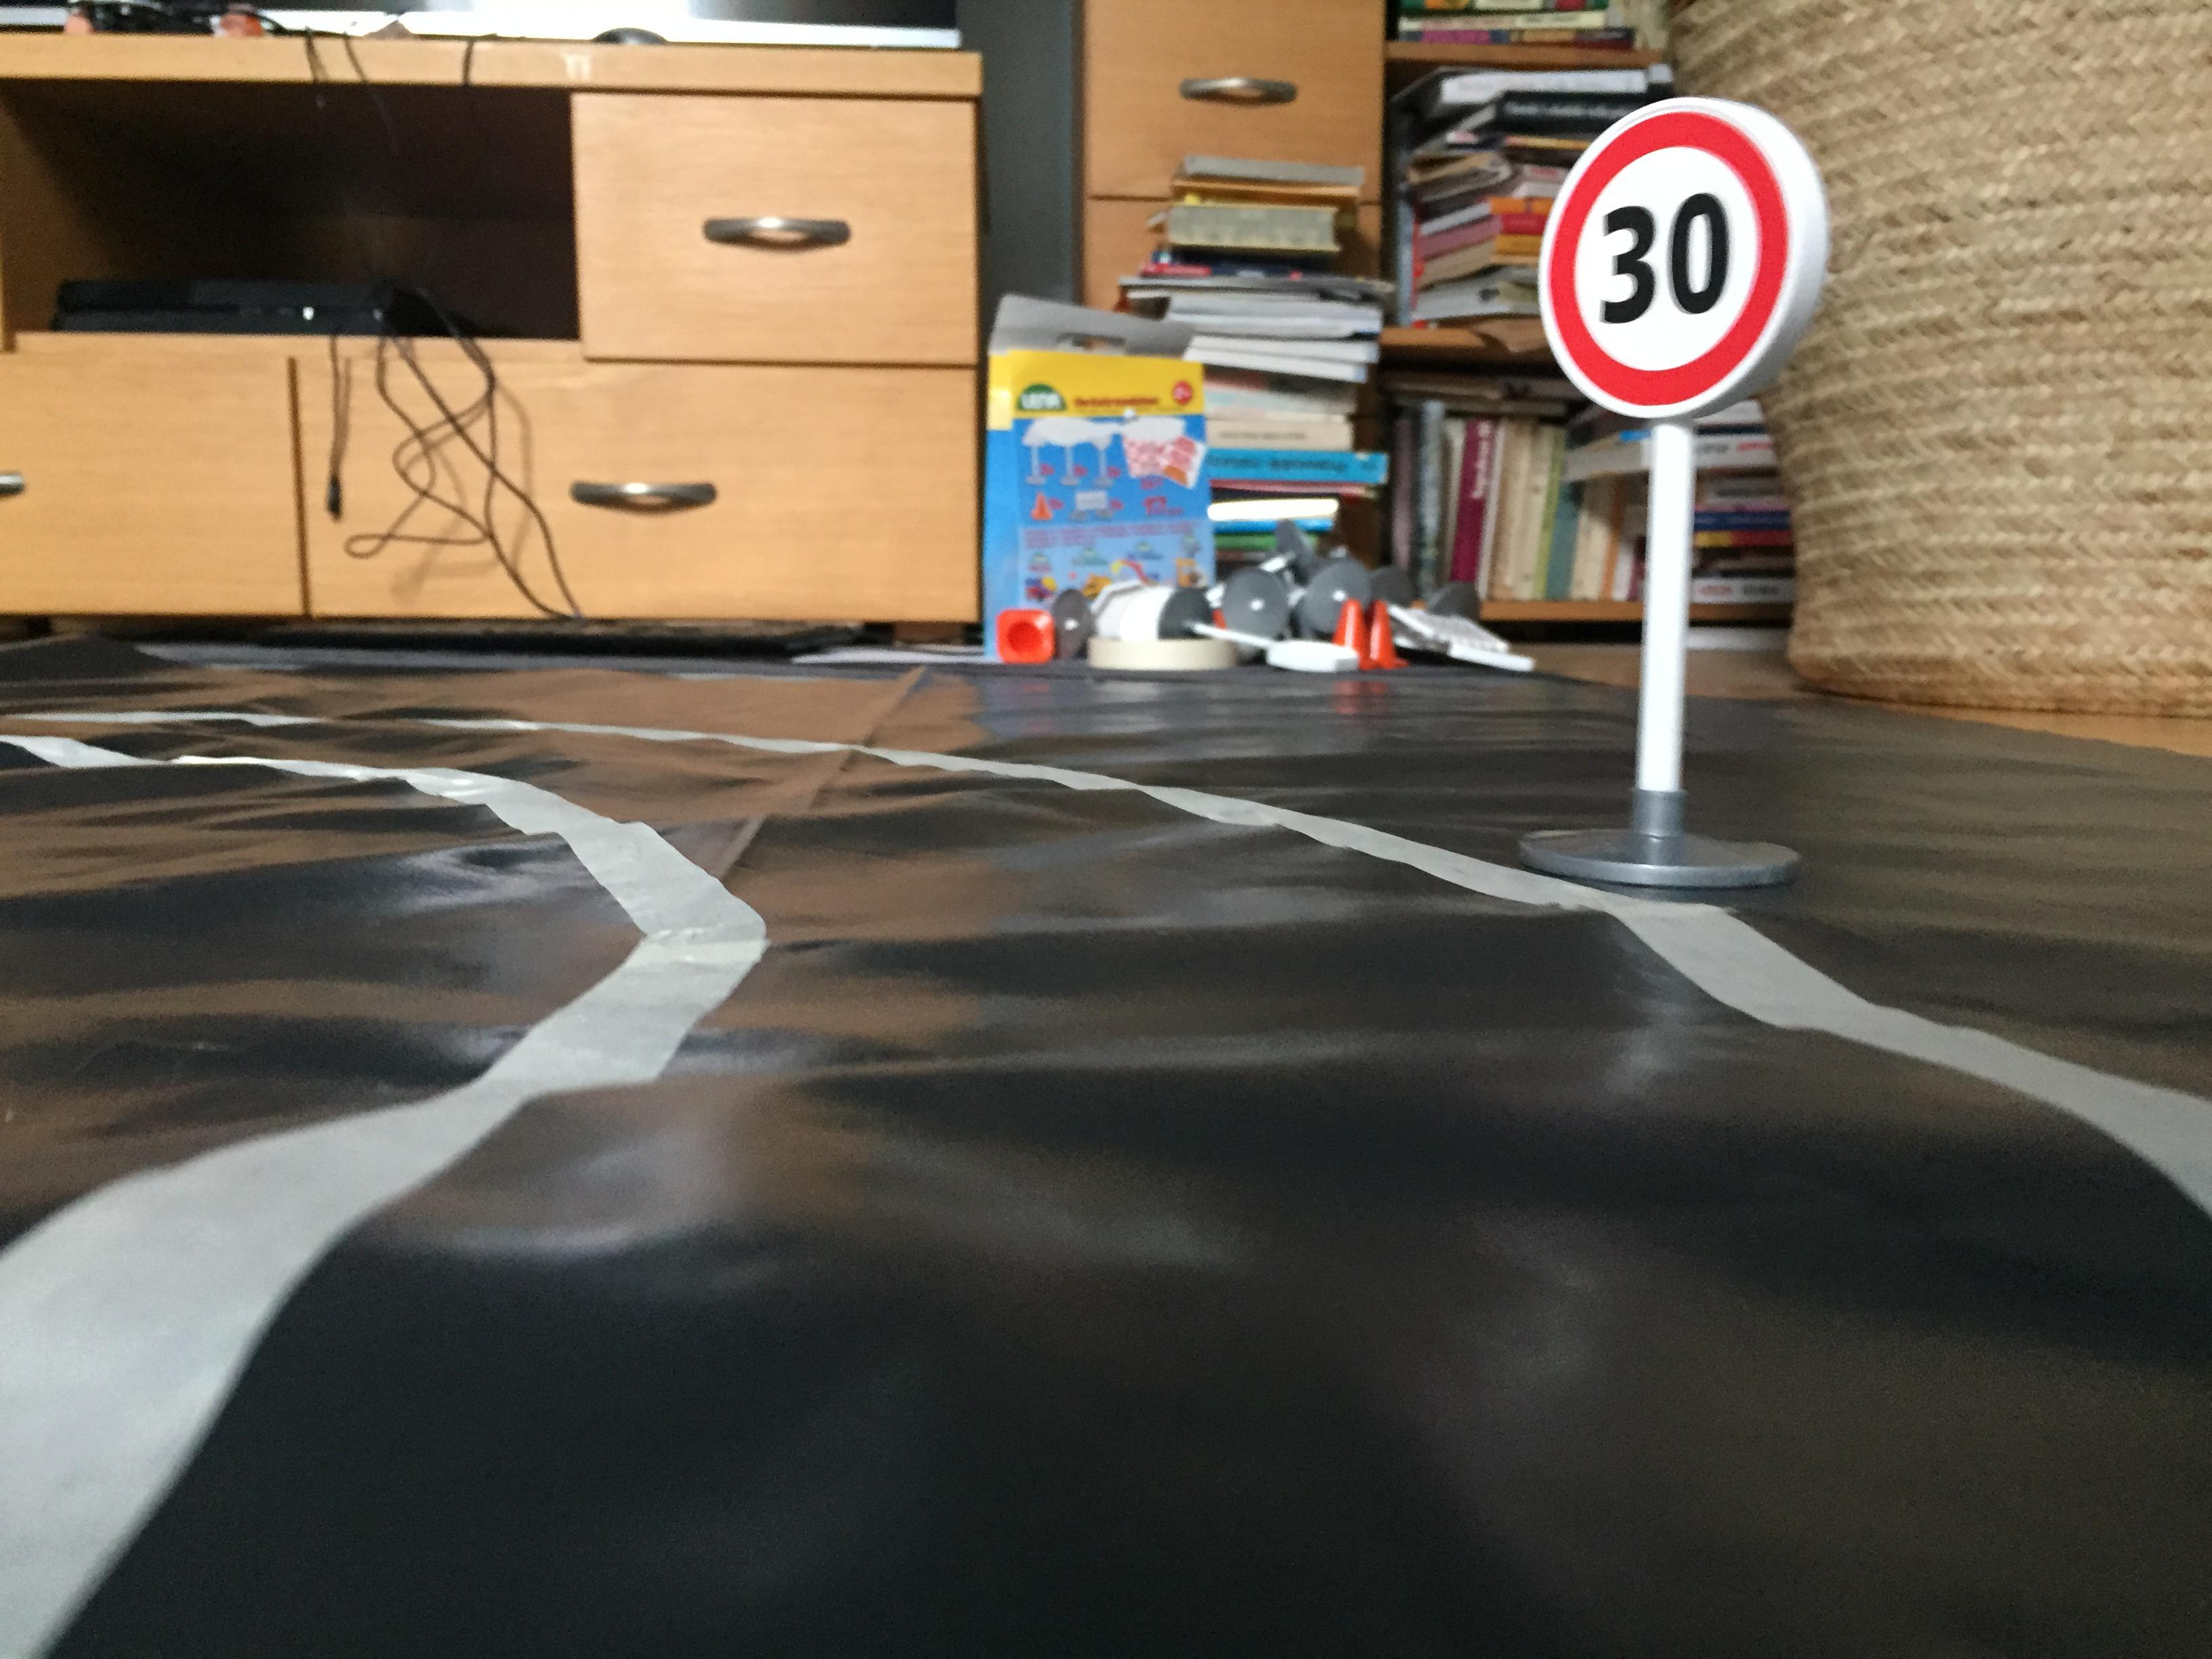speed: (1529, 85, 1855, 430)
